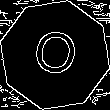O_S: (28, 25, 82, 85)
